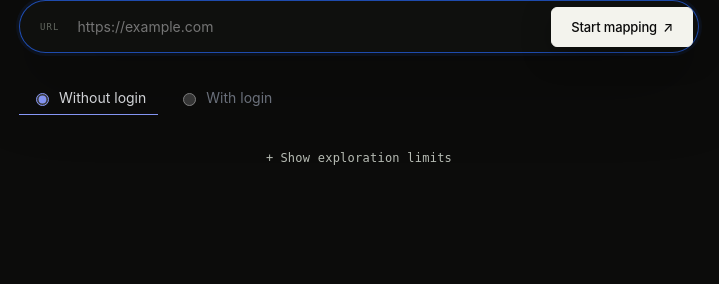
it: LandingForm › starts a screenshot-focused run and transitions to the workspace
Type " https://example.com " into the field with placeholder "https://example.com" at {"x": 305, "y": 26}, box [60,6,551,47]
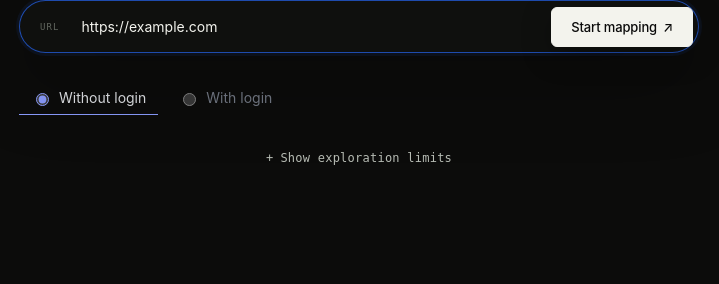
Click the button "+ Show exploration limits" at {"x": 359, "y": 158}, box [256,145,462,171]
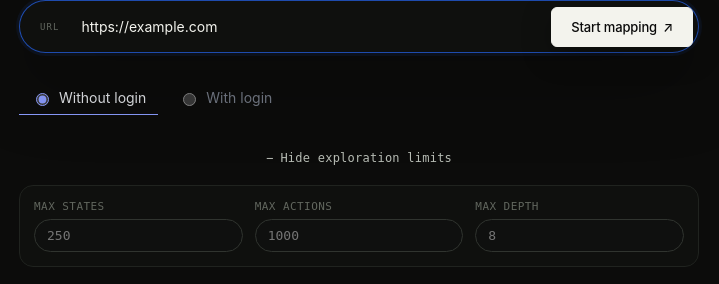
Type "12" into the number field labelled "Max states" at {"x": 138, "y": 236}, box [34,219,243,252]
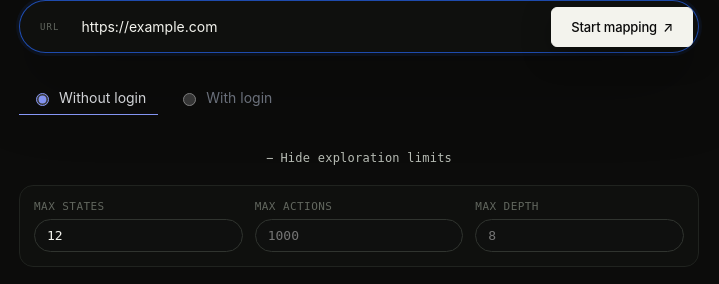
Type "24" into the number field labelled "Max actions" at {"x": 359, "y": 236}, box [255,219,463,252]
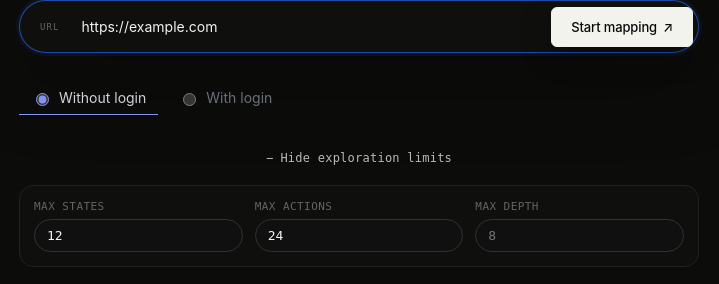
Type "2" into the number field labelled "Max depth" at {"x": 580, "y": 236}, box [475,219,684,252]
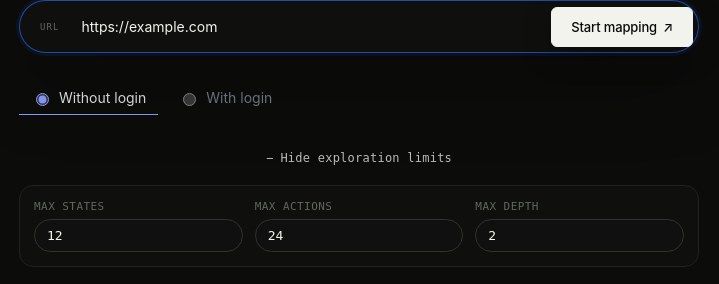
Click the button "Start mapping ↗" at {"x": 622, "y": 26}, box [551,6,693,46]
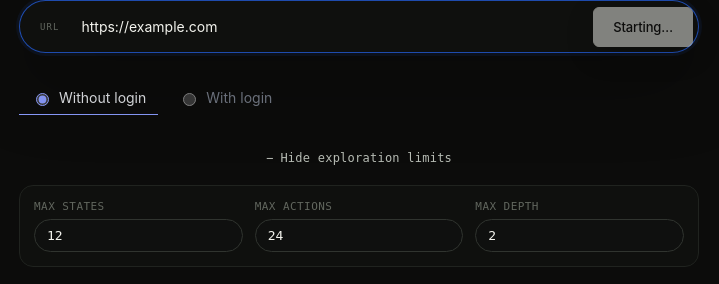
Result: the button "Starting…" is disabled at [593,6,693,46]
